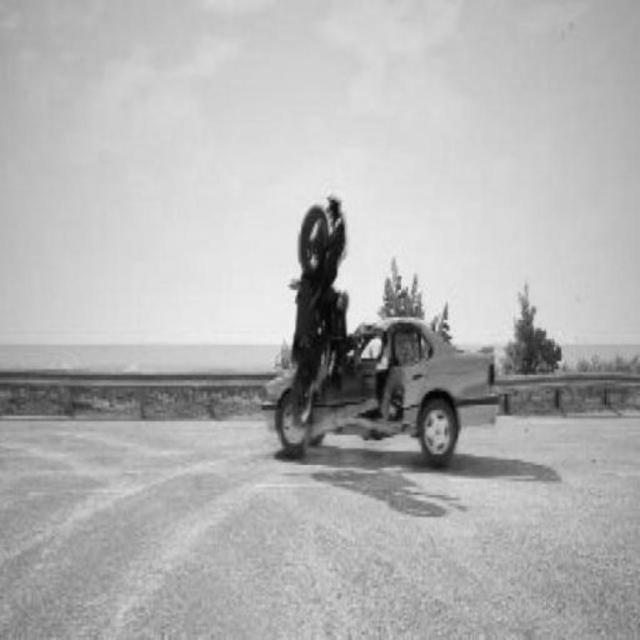accident: (268, 196, 500, 458)
